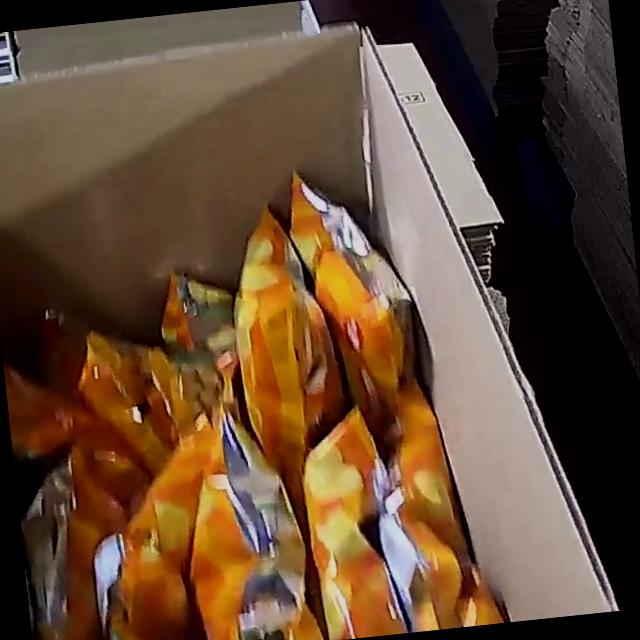cheese: (0, 146, 541, 640)
